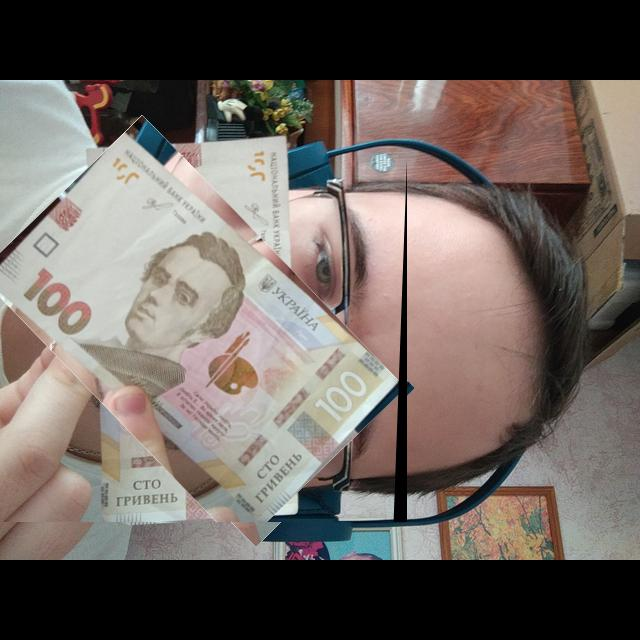100uah: (0, 132, 400, 524)
